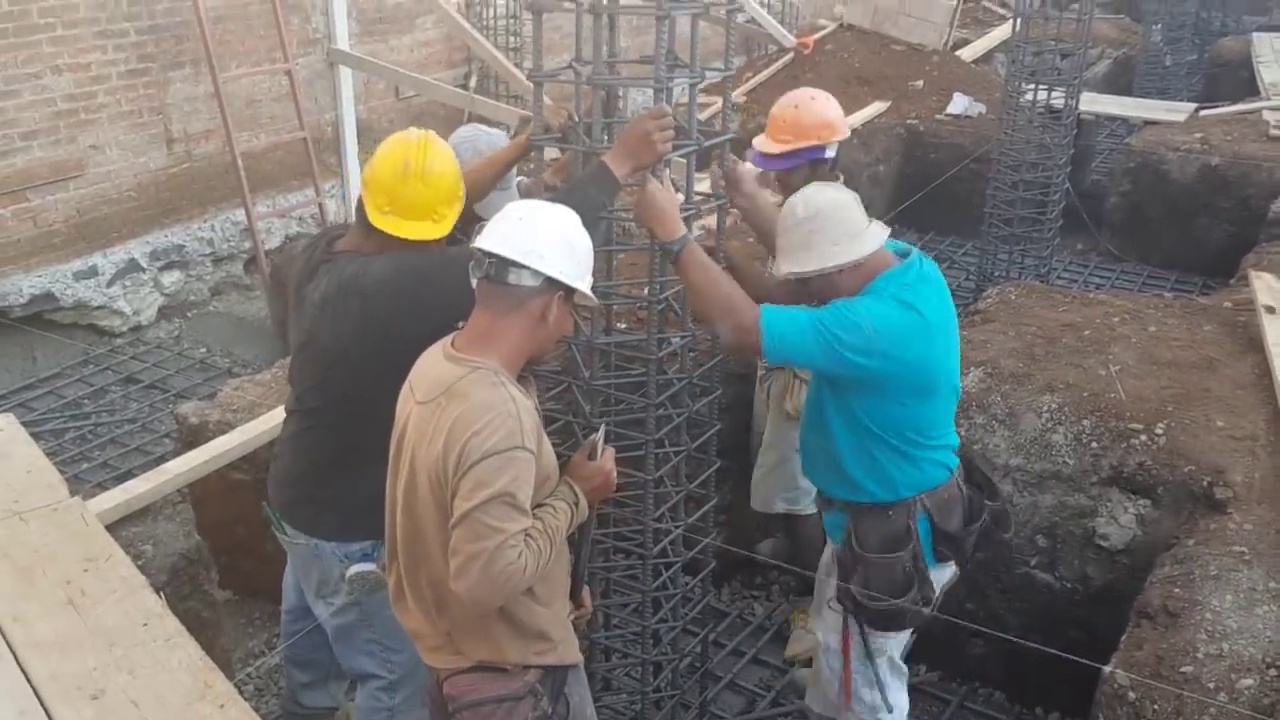helmet: (462, 197, 596, 307), (362, 128, 463, 243), (752, 86, 854, 158)
helmet-off: (736, 173, 901, 308), (445, 121, 528, 226)
helmet-on: (442, 194, 602, 383), (327, 127, 466, 260), (750, 84, 861, 187)
person: (636, 152, 960, 711), (271, 126, 469, 719), (378, 198, 608, 701), (715, 84, 862, 664)
